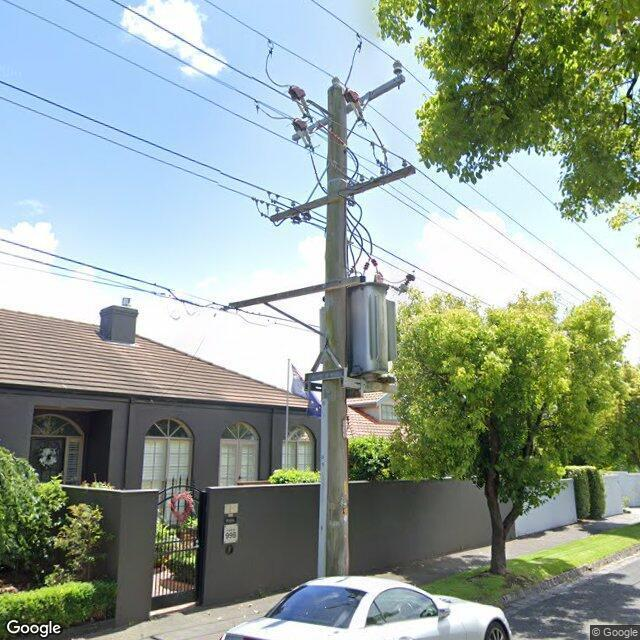HV-transmission: (289, 59, 402, 152)
crossarm: (270, 166, 415, 222), (292, 75, 404, 141), (228, 276, 361, 310)
timber-pole: (317, 84, 349, 578)
transformer: (319, 282, 397, 378)
